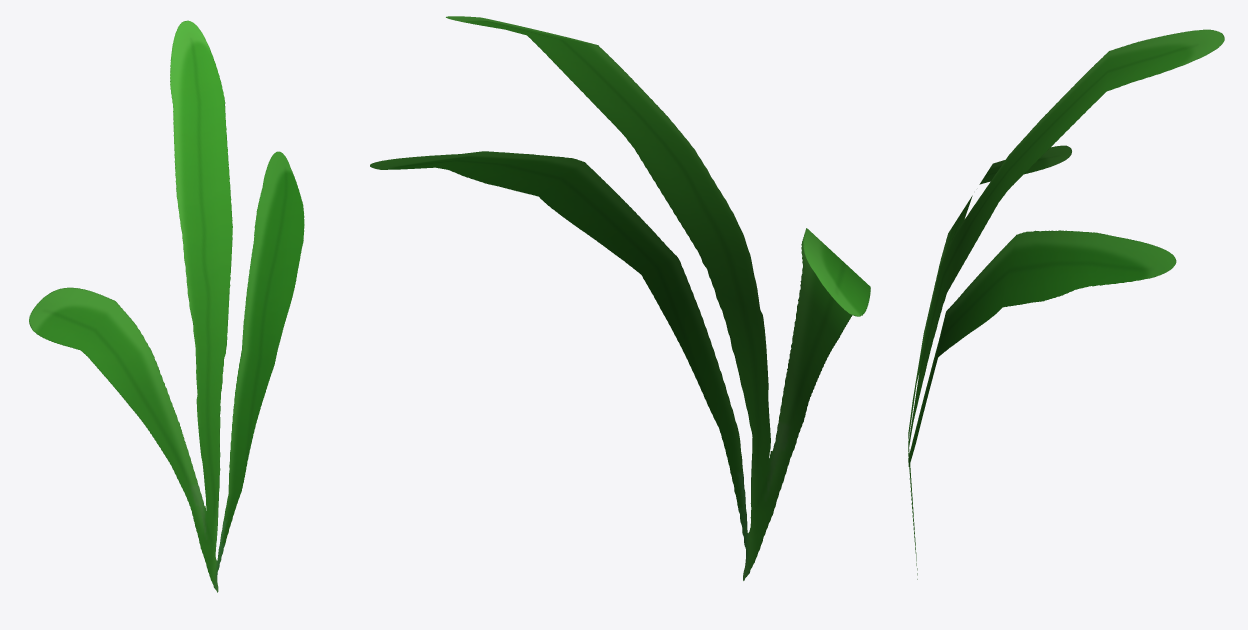
File: sm_env_grass_1.fbx
The picture shows the model from 3 angles, left to right: view 1: azimuth 30°, elevation 25°; view 2: azimuth 150°, elevation 25°; view 3: azimuth 270°, elevation 25°; orthographic projection. The views are drawn at different scales.
Visible parts, largest first — view 1: grass_1; view 2: grass_1; view 3: grass_1.
Boxes of the visible parts, box(x1,y1,x2,y2) form: grass_1: box(29, 20, 304, 592); grass_1: box(370, 16, 870, 580); grass_1: box(908, 29, 1224, 579).
Bounding box in the file's own units: 19.43 × 28.04 × 12.84.
